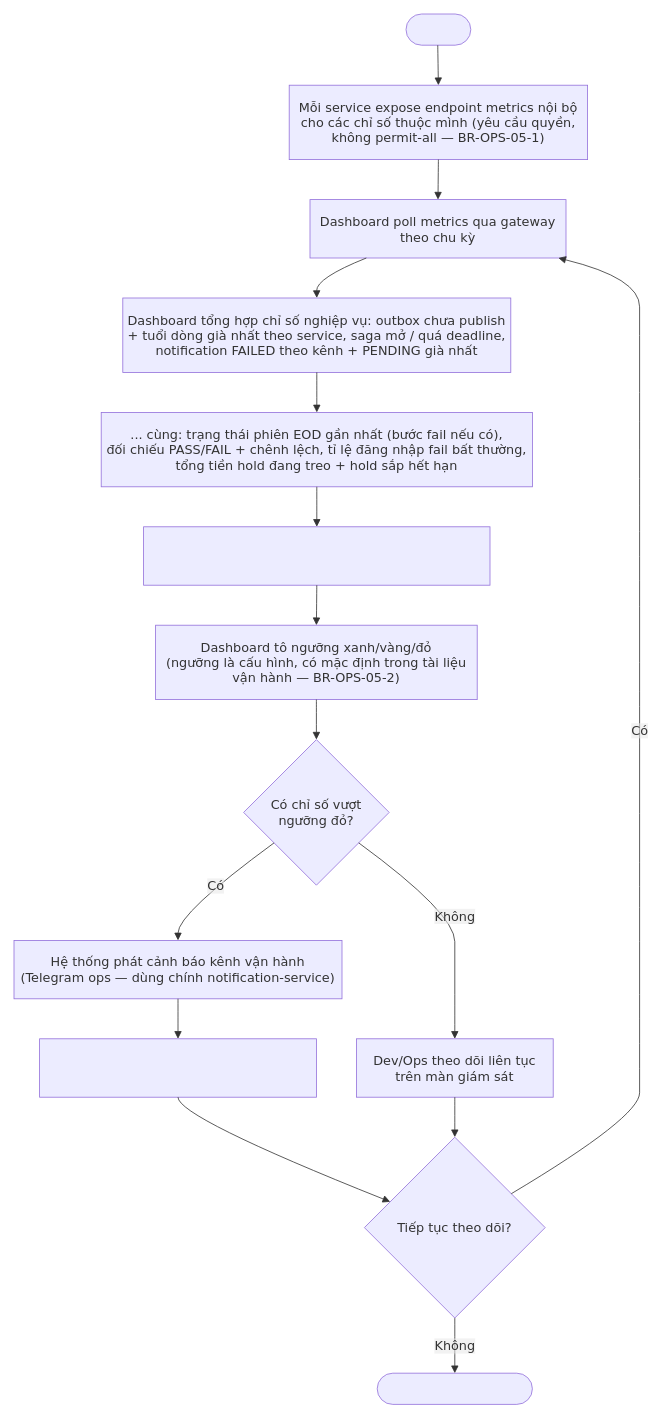
Some shapes in this 662 by 1418 pixel diagram are drawn without their labels. Here are the shapes that lost their labels. From the top down, the centre of each, then its label:
pixel 438 29: Bắt đầu
pixel 316 555: Dashboard hiển thị kèm health/uptime từng service (6 thẻ service đã có từ GĐ0)
pixel 177 1067: Dev/Ops nhận cảnh báo, vào dashboard xem chi tiết và xử lý sự cố
pixel 454 1388: Kết thúc phiên theo dõi
